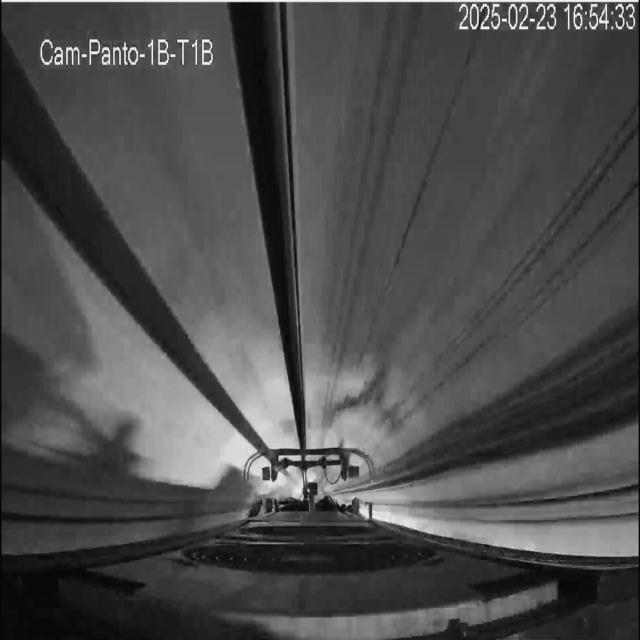Camera Stamp: (36, 28, 220, 69)
Date Stamp: (459, 3, 637, 33)
No - Spark: (277, 361, 377, 448), (246, 446, 373, 512)
